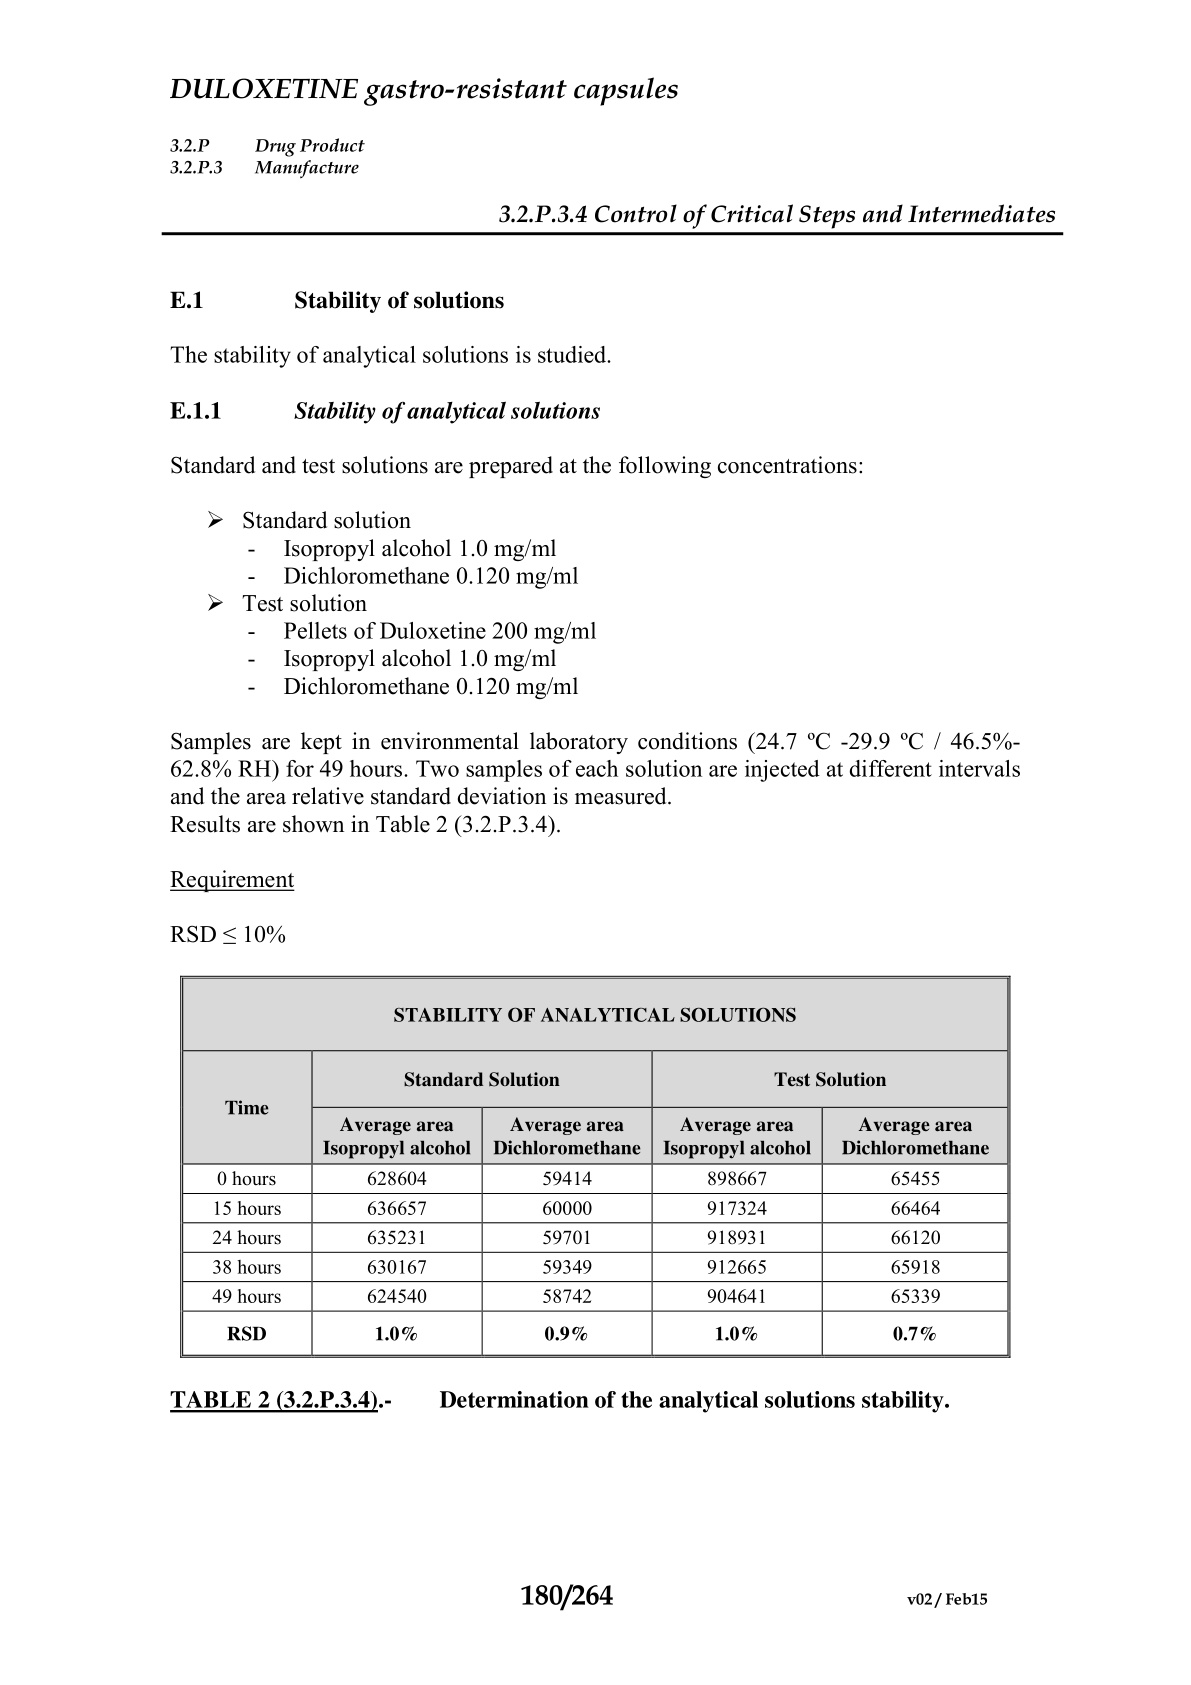merged_cells: (178, 975, 1012, 1360)
